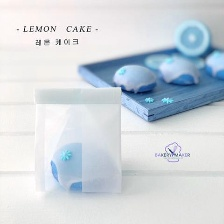snack: (24, 80, 131, 200)
